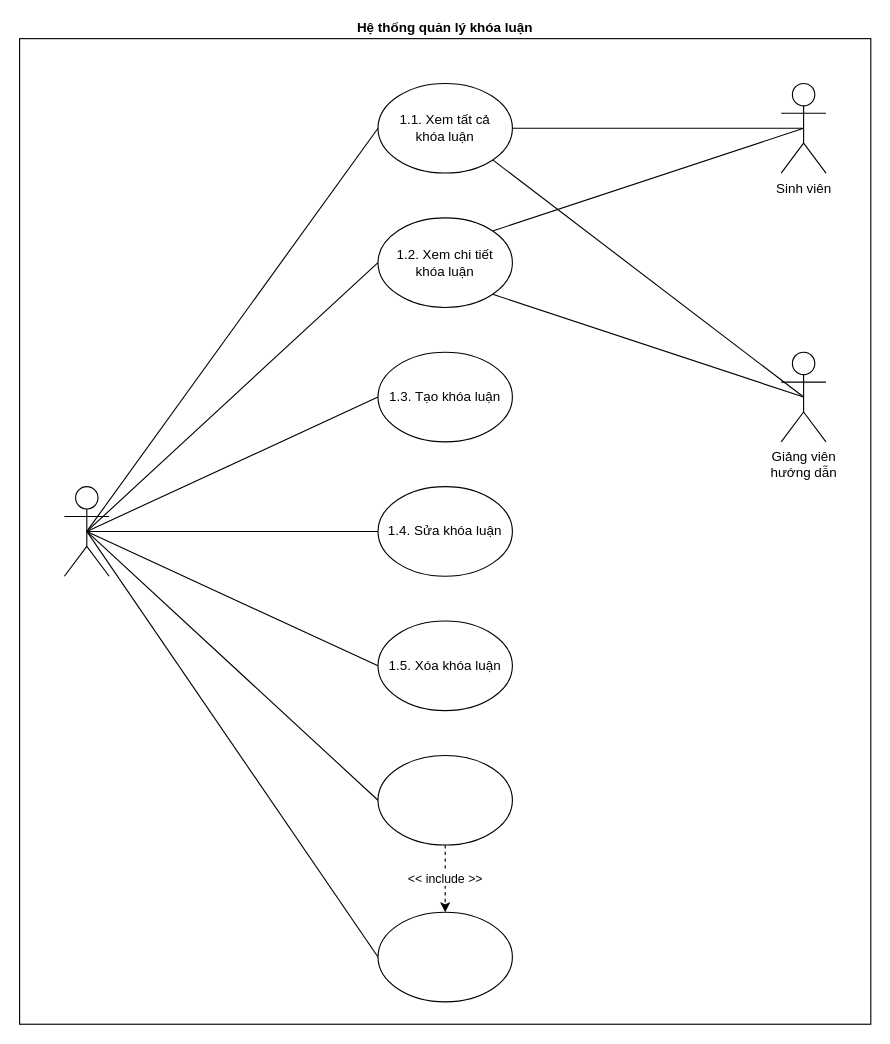
The diagram is 890 pixels wide and 1044 high, and some of its shapes have lost their labels. Here are the shapes that lost their labels. From the top down, the centre of each, then its label:
pixel 86 531: Trưởng ngành
pixel 444 799: 1.6. Kích hoạt khóa luận
pixel 444 956: 1.7. Hủy kích hoạt khóa luận
